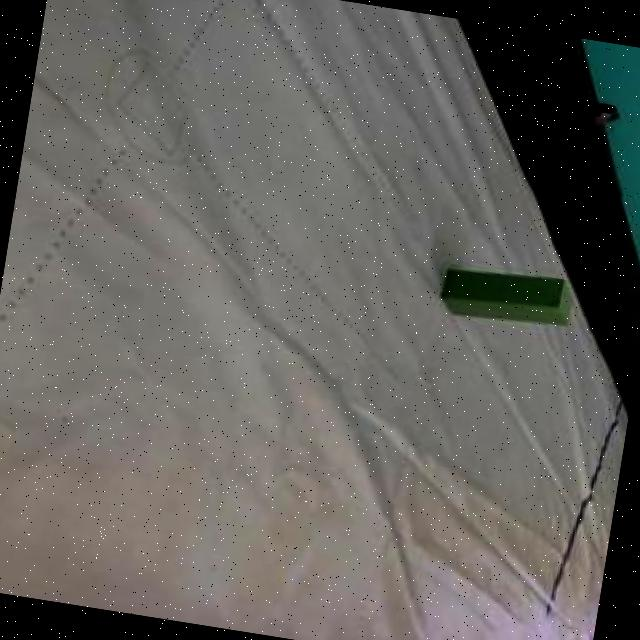greenbox: (434, 257, 582, 331)
